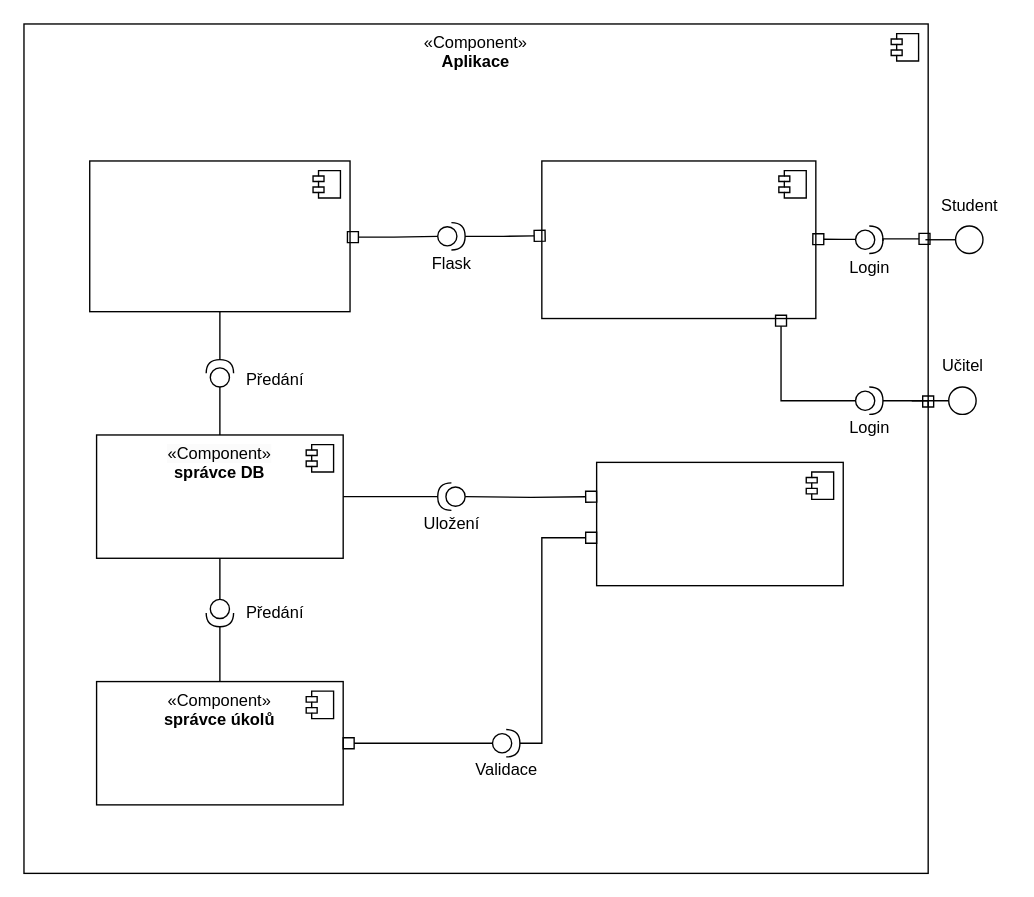
The diagram is 1034 pixels wide and 897 high, and some of its shapes have lost their labels. Here are the shapes that lost their labels. From the top down, the centre of each, then its label:
point (219, 236): «Component» Backend
point (678, 239): «Component» Frontend
point (719, 523): «Component» Databáze
